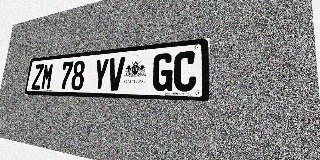7: (59, 61, 74, 90)
8: (70, 60, 86, 90)
C: (173, 50, 197, 92)
G: (152, 52, 174, 91)
M: (41, 63, 54, 90)
V: (107, 57, 125, 91)
Y: (92, 58, 110, 90)
Z: (31, 64, 44, 90)
